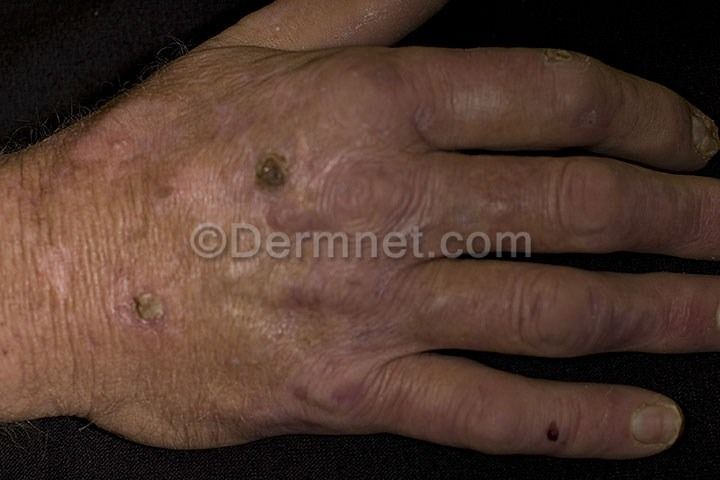Melasma: (69, 108, 334, 208), (22, 262, 255, 370), (282, 273, 351, 406), (495, 400, 576, 449)
